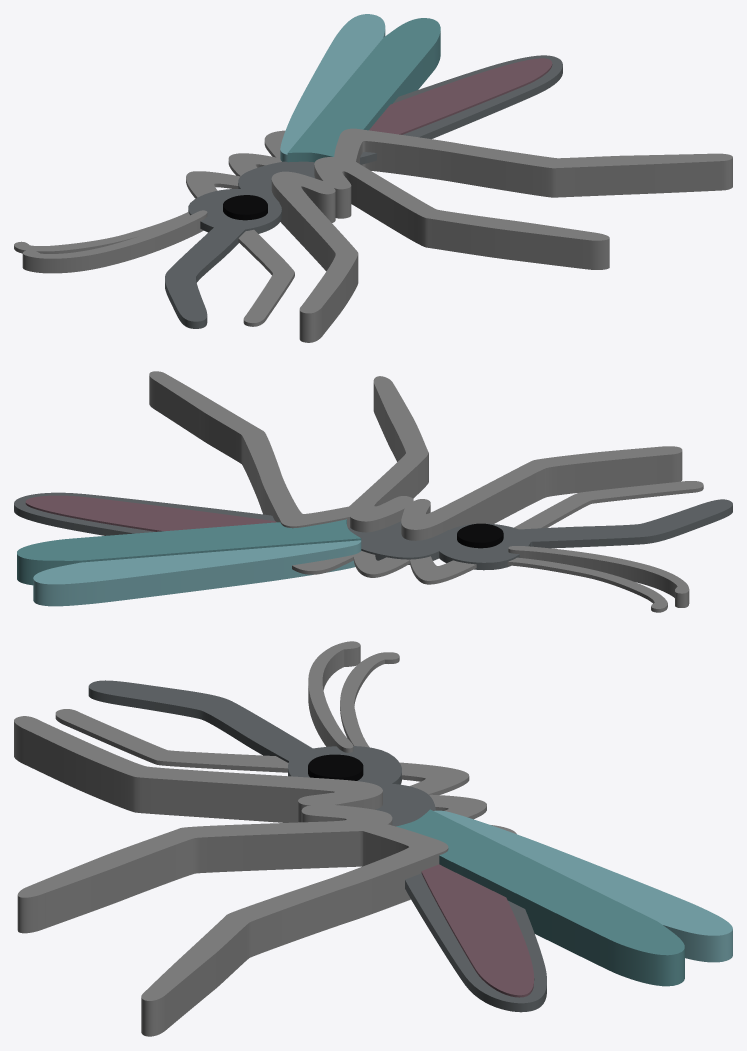
The model's file is emoji_u1f99f.glb.
The picture shows the model from 3 angles, top to bottom: view 1: azimuth 30°, elevation 25°; view 2: azimuth 150°, elevation 25°; view 3: azimuth 270°, elevation 25°; orthographic projection. The views are drawn at different scales.
Parts seen in each view (by area): view 1: emoji_u1f99f; view 2: emoji_u1f99f; view 3: emoji_u1f99f.
Boxes of the visible parts, bbox=[...] form: emoji_u1f99f: bbox=[14, 14, 732, 342]; emoji_u1f99f: bbox=[14, 371, 732, 612]; emoji_u1f99f: bbox=[14, 641, 732, 1036].
Bounding box in the file's own units: 0.0355 × 0.0016 × 0.0293.
